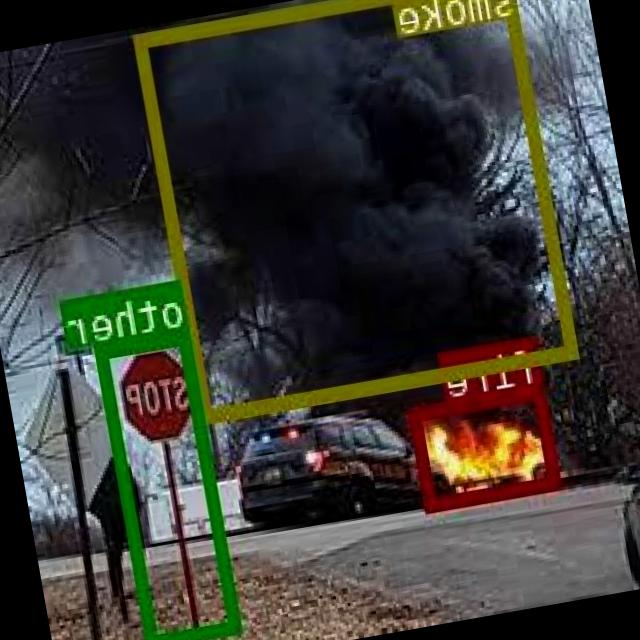fire: (409, 382, 563, 508)
smoke: (134, 0, 581, 419)
